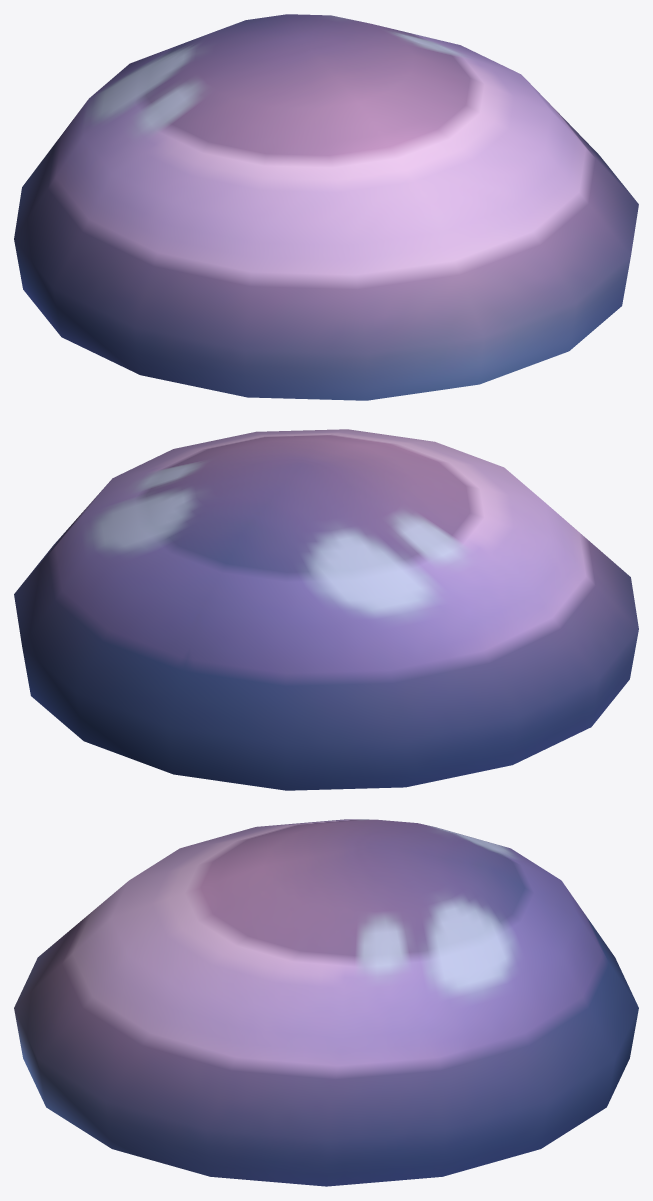
The model's file is scenes_around_candy02d.FBX.
3 renders of one model, top to bottom at view 1: azimuth 30°, elevation 25°; view 2: azimuth 150°, elevation 25°; view 3: azimuth 270°, elevation 25°, orthographic.
Visible parts, largest first — view 1: scenes_around_candy02d; view 2: scenes_around_candy02d; view 3: scenes_around_candy02d.
Boxes of the visible parts, x1,y1,x2,y2 form: scenes_around_candy02d: (14, 14, 638, 400); scenes_around_candy02d: (14, 429, 638, 790); scenes_around_candy02d: (14, 819, 638, 1186).
Size of the model in its own units: 2181 by 823 by 2181.
